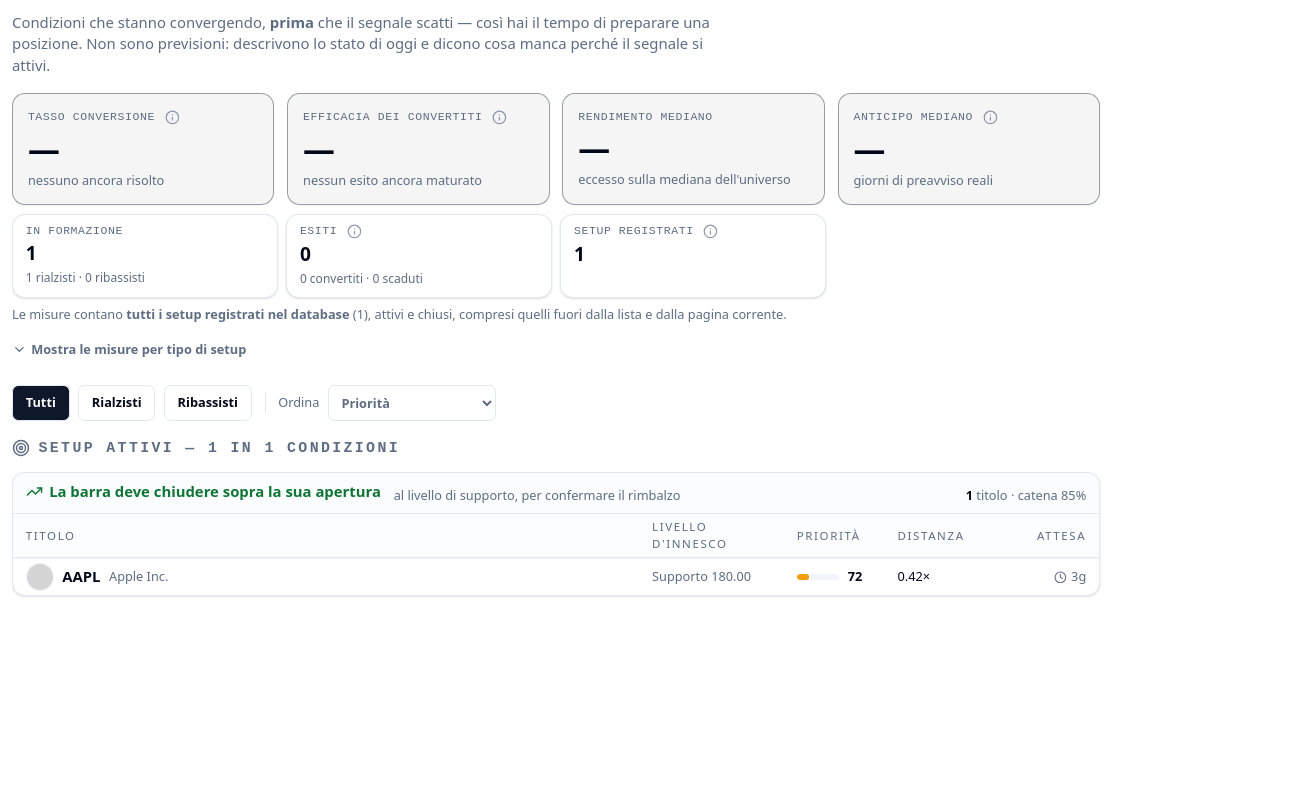
Scenario: SetupsView — le due viste › la tabella per tipo di setup si apre a richiesta
The image size is (1292, 812).
Click the button "Mostra le misure per tipo di setup".
click(129, 350)  # box x1=12 y1=332 x2=246 y2=368
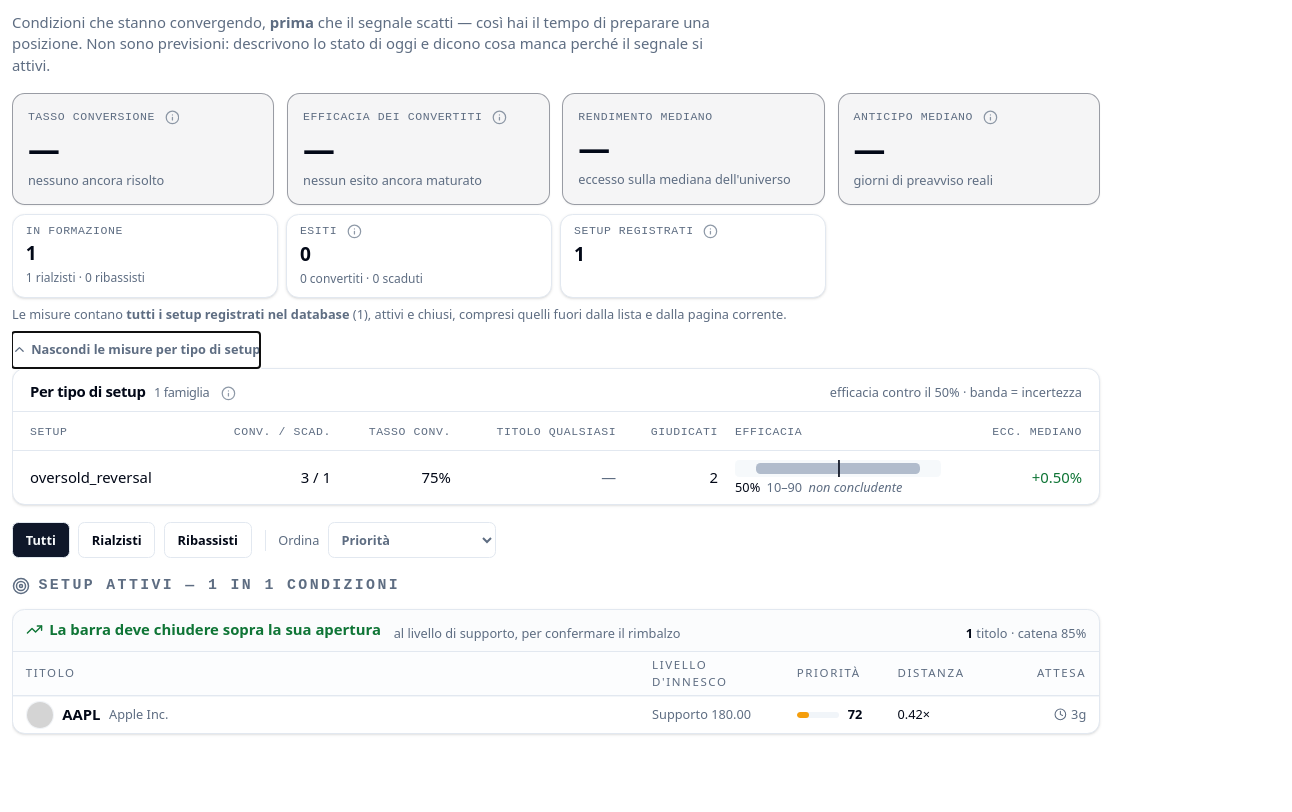
Expected: the button "Nascondi le misure per tipo di setup" is expanded, x1=12 y1=332 x2=260 y2=368
Expected: the heading "Per tipo di setup1 famiglia" is shown, x1=30 y1=381 x2=241 y2=403
